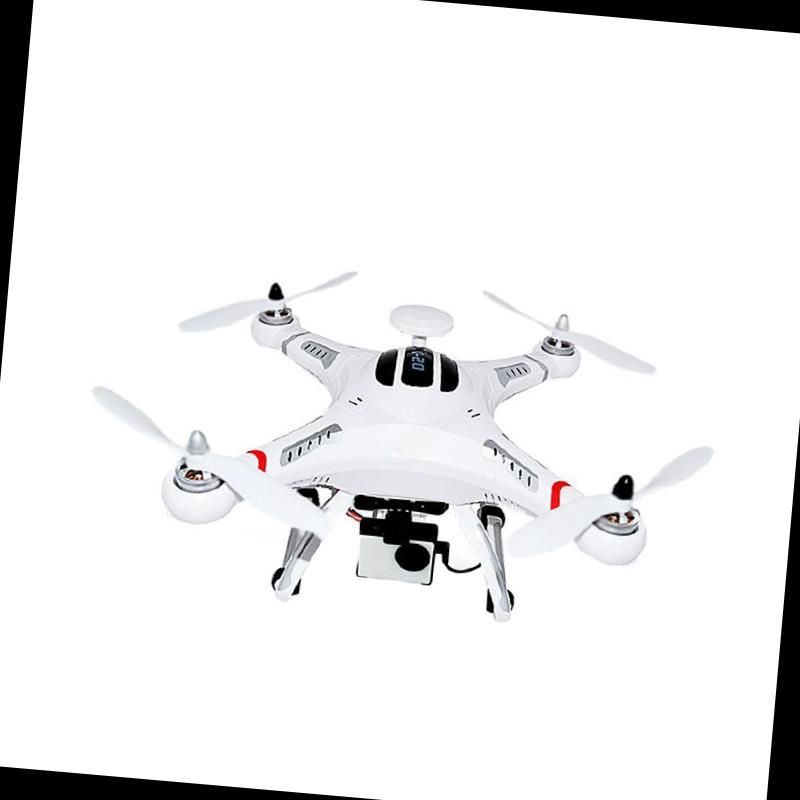drone: (81, 244, 741, 652)
